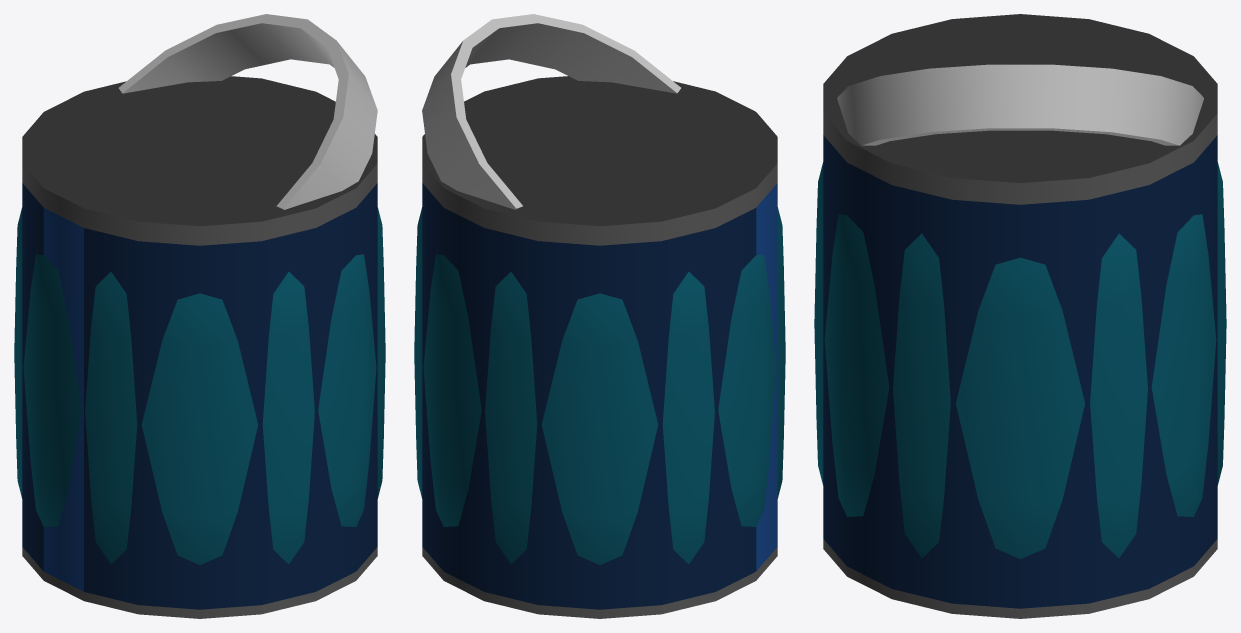
The model's file is Cans.FBX.
The picture shows the model from 3 angles, left to right: view 1: azimuth 30°, elevation 25°; view 2: azimuth 150°, elevation 25°; view 3: azimuth 270°, elevation 25°; orthographic projection. The views are drawn at different scales.
Parts seen in each view (by area): view 1: Cylinder003, OilTank001; view 2: Cylinder003, OilTank001; view 3: Cylinder003, OilTank001.
Boxes of the visible parts, x1,y1,x2,y2 form: Cylinder003: [22, 14, 377, 618]; OilTank001: [14, 207, 385, 564]; Cylinder003: [422, 14, 777, 618]; OilTank001: [414, 207, 785, 564]; Cylinder003: [823, 14, 1217, 618]; OilTank001: [814, 162, 1226, 558].
Bounding box in the file's own units: 21.34 × 21.34 × 30.61.
